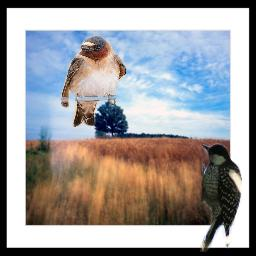Swallow: (61, 35, 126, 127)
Woodpecker: (200, 143, 242, 252)
